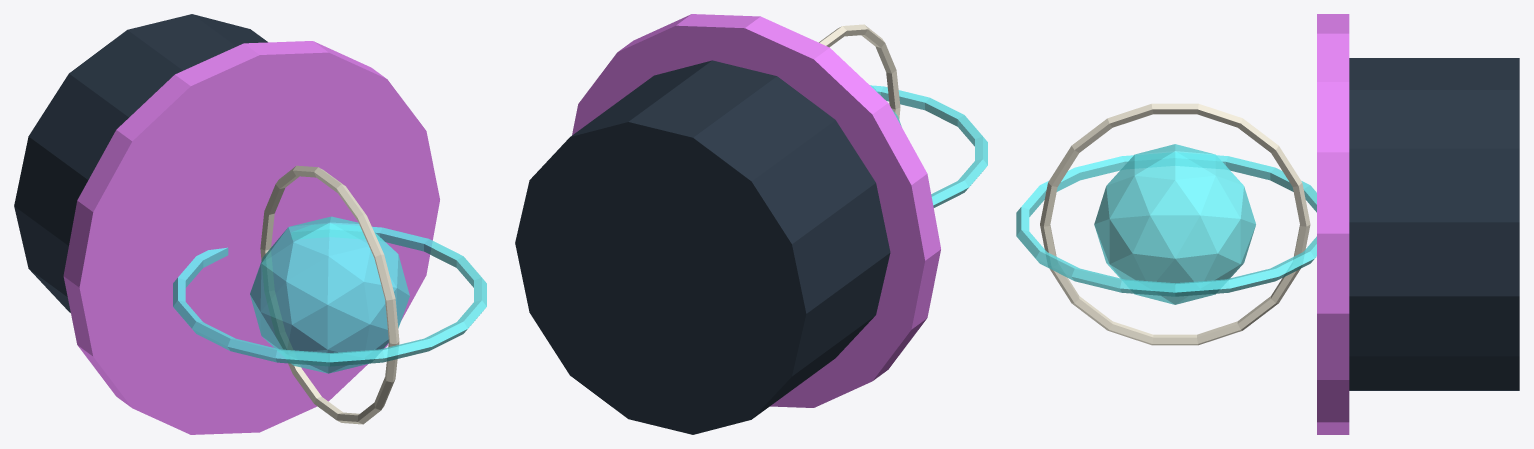
The model's file is 09_high_tier_relic_pedestal.glb.
3 renders of one model, left to right at view 1: azimuth 30°, elevation 25°; view 2: azimuth 150°, elevation 25°; view 3: azimuth 270°, elevation 25°, orthographic.
Visible parts, largest first — view 1: top_rim, relic_pedestal, floating_relic_core, relic_orbit_a, relic_orbit_b; view 2: relic_pedestal, top_rim, relic_orbit_a, relic_orbit_b; view 3: relic_pedestal, floating_relic_core, top_rim, relic_orbit_b, relic_orbit_a.
Part boxes in pixels (<box>): top_rim: <box>63,41,439,434</box>; relic_pedestal: <box>14,14,267,312</box>; floating_relic_core: <box>250,216,409,373</box>; relic_orbit_a: <box>173,226,486,366</box>; relic_orbit_b: <box>260,165,399,424</box>; relic_pedestal: <box>515,60,890,434</box>; top_rim: <box>572,14,940,407</box>; relic_orbit_a: <box>871,85,987,207</box>; relic_orbit_b: <box>819,24,900,119</box>; relic_pedestal: <box>1349,58,1519,390</box>; floating_relic_core: <box>1094,144,1255,304</box>; top_rim: <box>1317,14,1349,434</box>; relic_orbit_b: <box>1040,103,1310,345</box>; relic_orbit_a: <box>1016,155,1316,296</box>.
Size of the model in its own units: 1.04 by 1.04 by 1.24.
